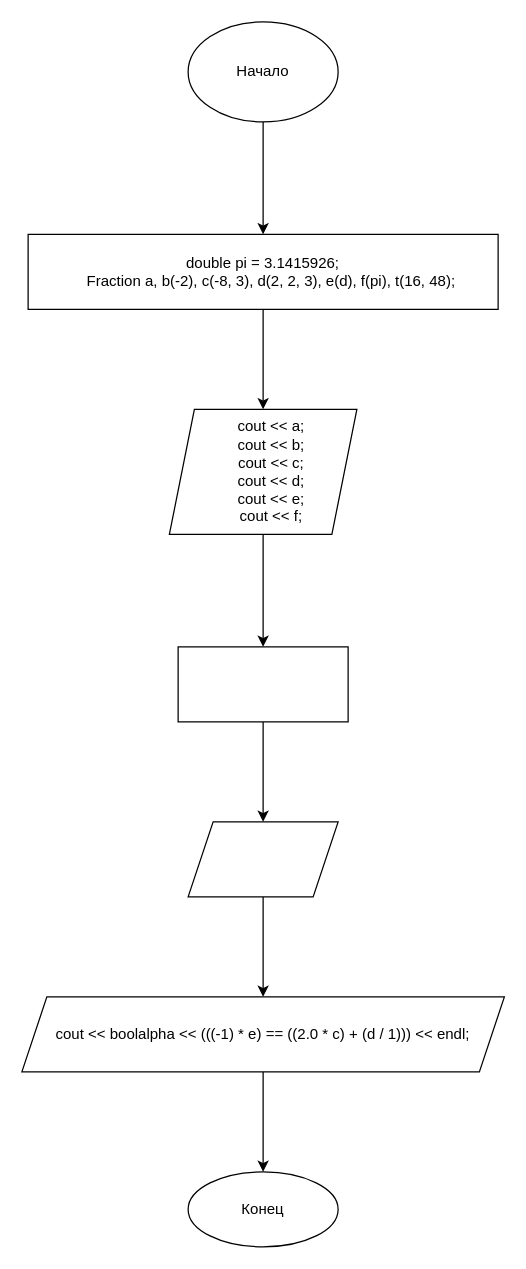
Some shapes in this 526 by 1269 pixel diagram are drawn without their labels. The shapes that lost their labels are listed below. From the top down, each one's centre as x and y in pixels, then its label:
At (x=262, y=684): "Fraction x(2, 3), y(0);".
At (x=262, y=859): "cout << x / y;".
